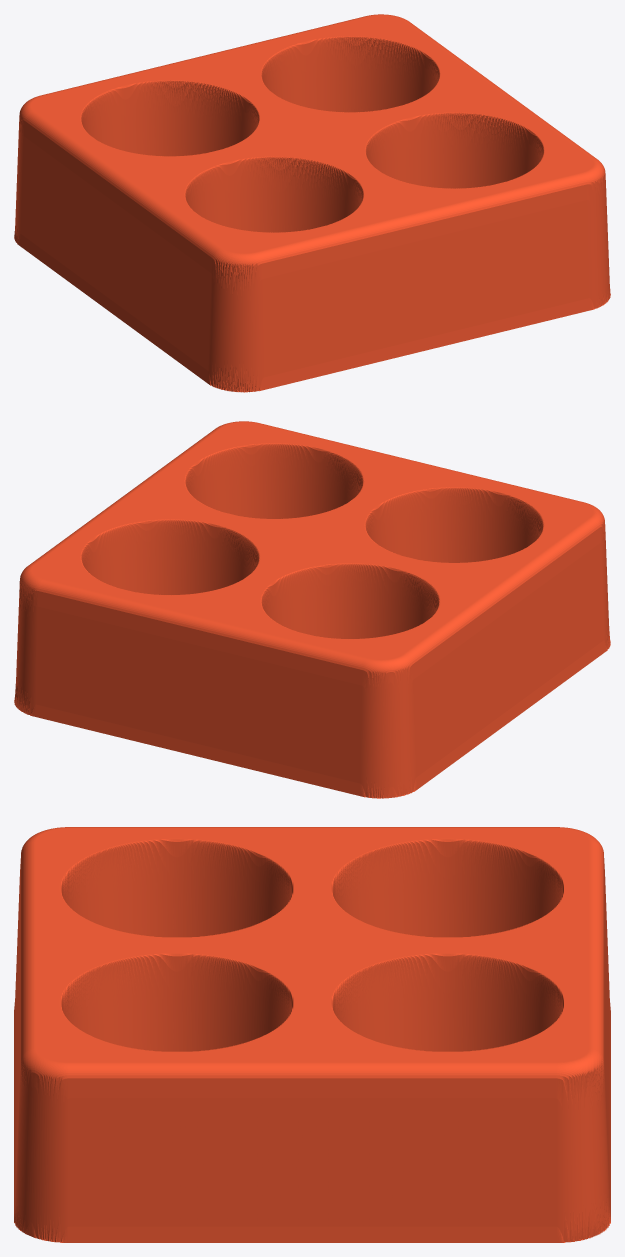
Rendered from mold.glb.
3 renders of one model, top to bottom at view 1: azimuth 30°, elevation 25°; view 2: azimuth 150°, elevation 25°; view 3: azimuth 270°, elevation 25°, orthographic. The views are drawn at different scales.
Visible parts, largest first — view 1: geometry_0; view 2: geometry_0; view 3: geometry_0.
Boxes of the visible parts, x1,y1,x2,y2 form: geometry_0: (14, 14, 610, 392); geometry_0: (14, 421, 610, 798); geometry_0: (14, 827, 610, 1242).
Size of the model in its own units: 0.0992 by 0.0314 by 0.0992.
